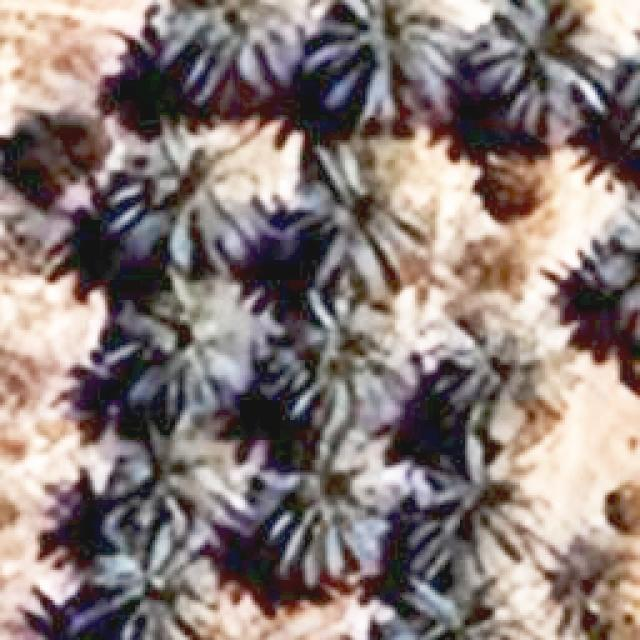PalmTree: (146, 165, 466, 574), (102, 128, 260, 278), (266, 428, 413, 589), (455, 0, 620, 142), (110, 398, 256, 558), (105, 126, 260, 276), (302, 0, 474, 135), (307, 147, 442, 315), (431, 307, 571, 469), (115, 397, 255, 556), (305, 146, 435, 312), (471, 0, 622, 141), (311, 0, 472, 132), (430, 306, 573, 451), (408, 434, 546, 581), (284, 290, 418, 437), (121, 273, 256, 417), (142, 0, 318, 108), (293, 282, 416, 436), (414, 429, 537, 582), (126, 273, 255, 414), (150, 0, 316, 108), (94, 527, 220, 640), (108, 526, 219, 639), (533, 526, 640, 640), (378, 566, 530, 640), (374, 574, 518, 638), (590, 190, 638, 358), (593, 184, 640, 340), (618, 18, 640, 178), (623, 34, 640, 170)
